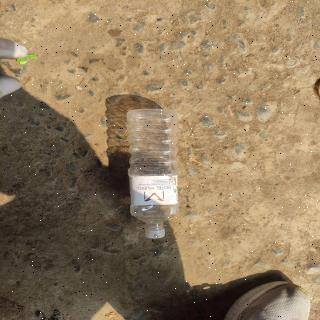Plastic-bottle: (122, 104, 190, 244)
